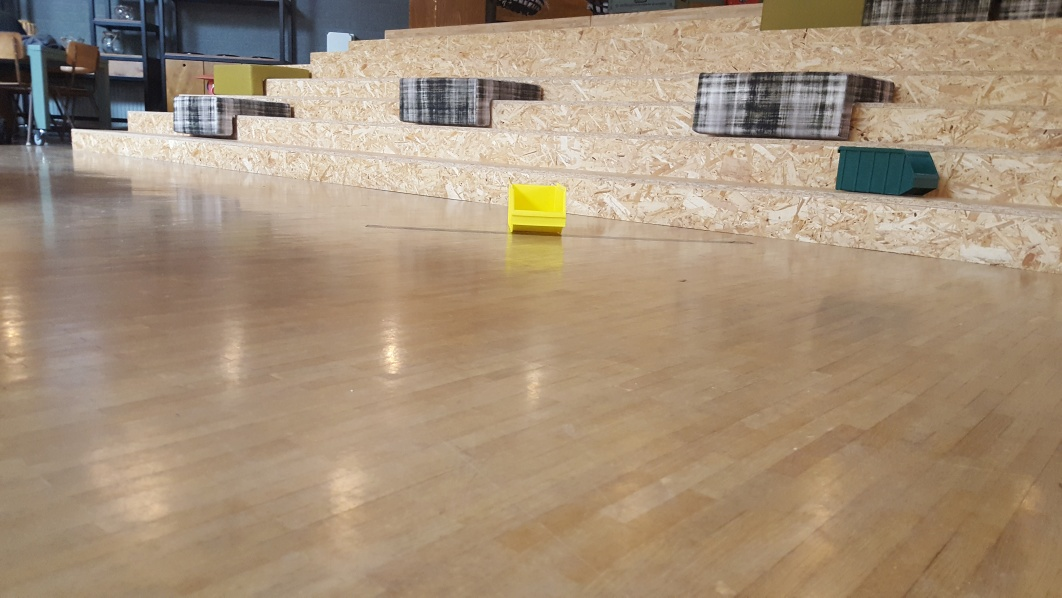tray: (832, 144, 944, 200), (507, 179, 569, 236)
